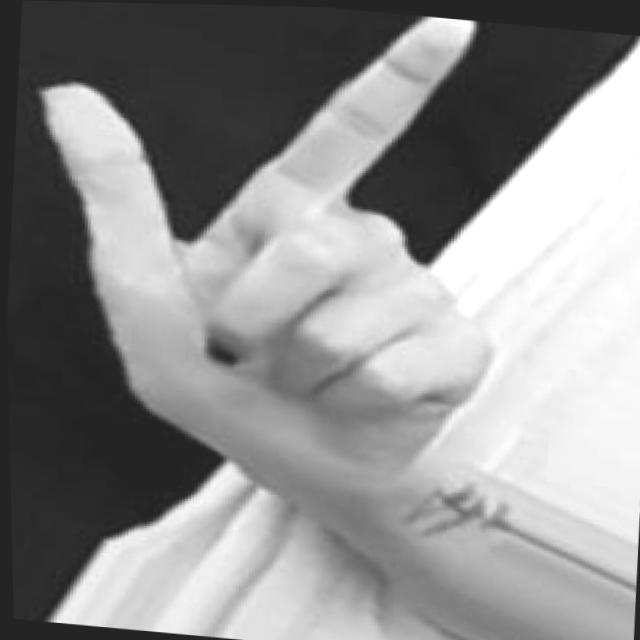L: (5, 0, 539, 502)
